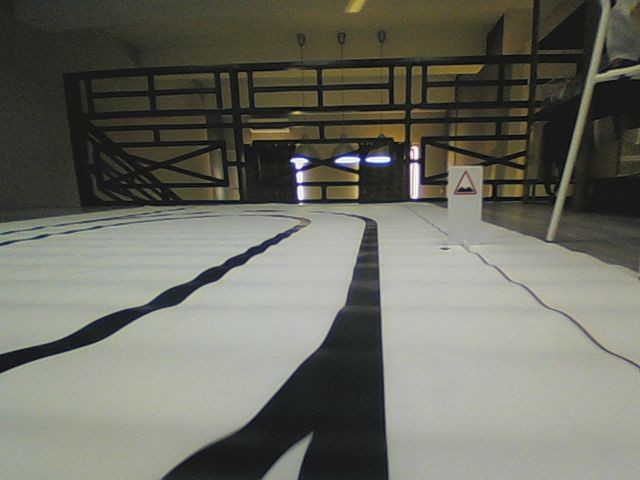Nerov: (452, 168, 477, 196)
